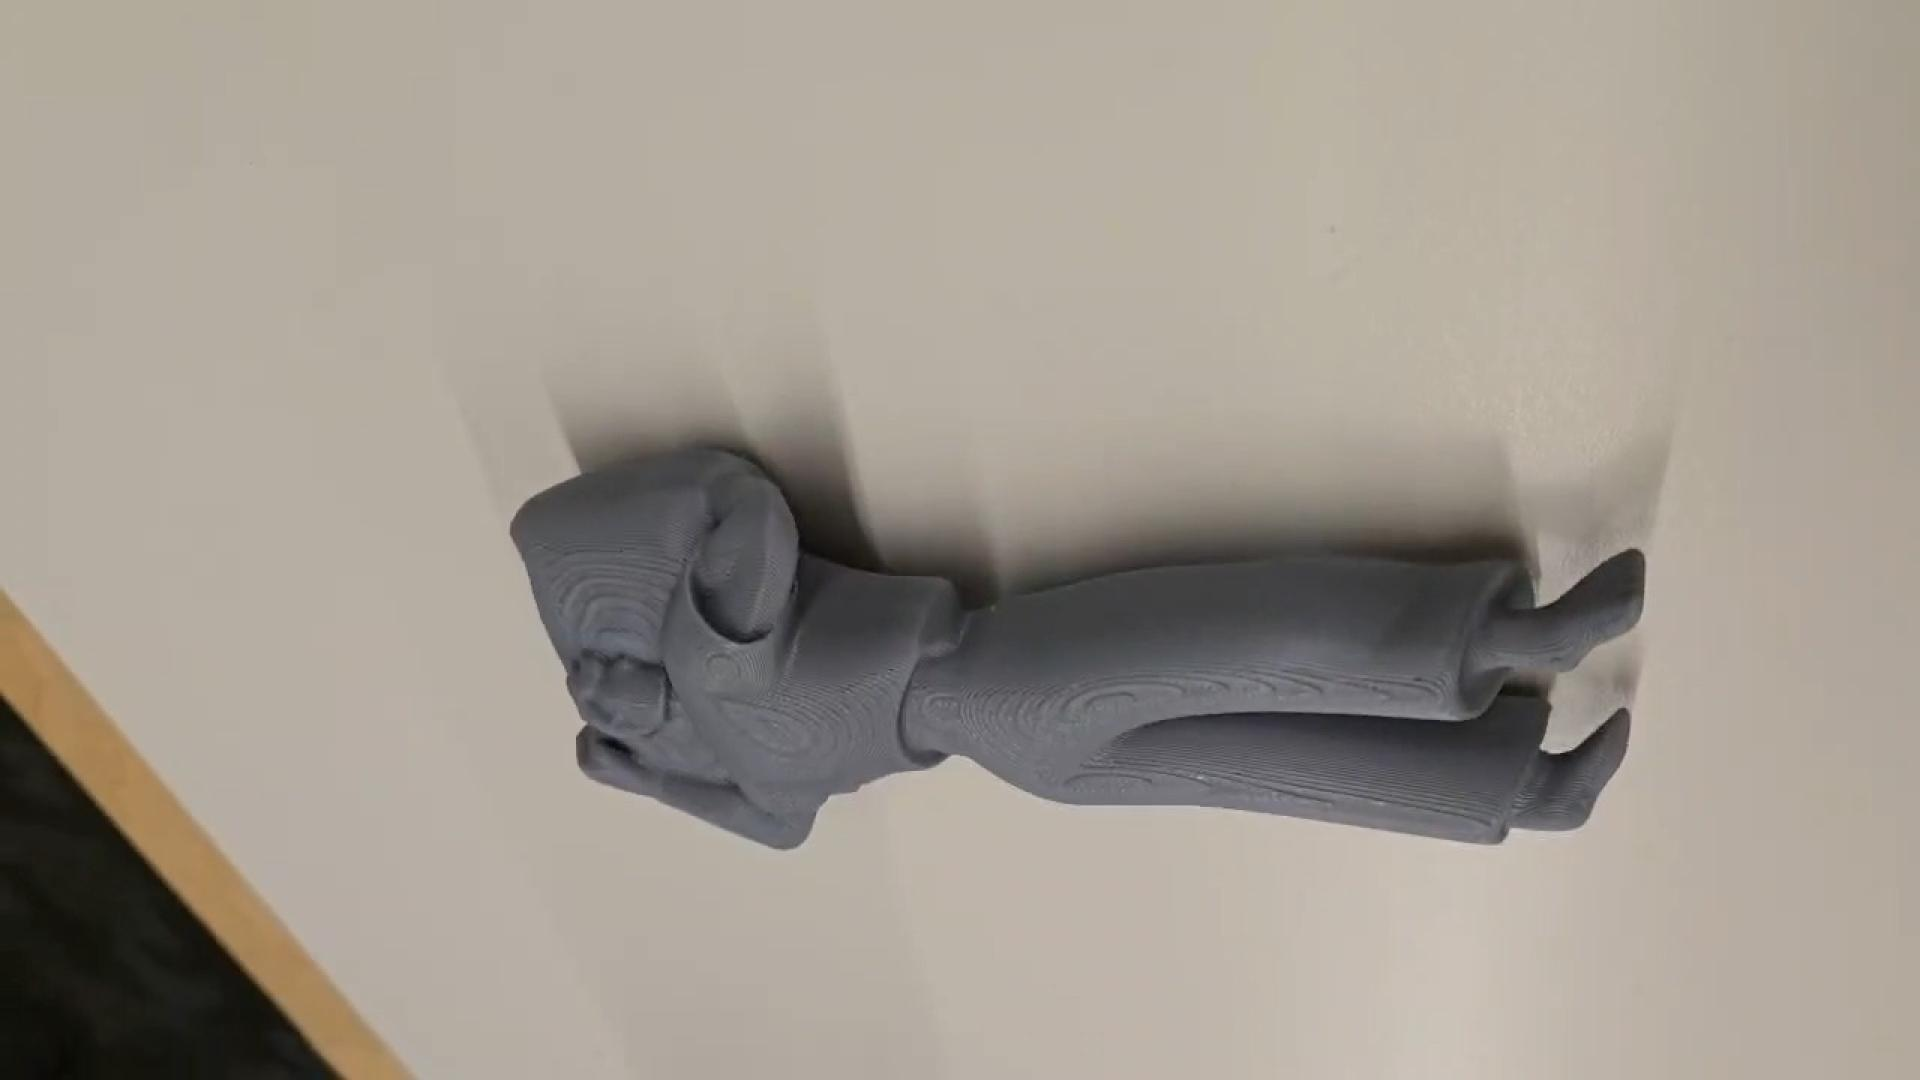Bad-style: (512, 446, 1652, 861)
